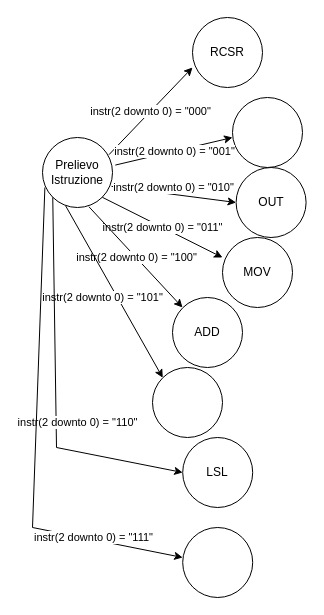
Image size: 324x615. Some labels were removed from this diagram. Here are the shapes that lost their labels. From the top down, the centre of each, then its label:
At (x=267, y=132): "IN".
At (x=187, y=402): "MUL".
At (x=217, y=562): "LSR".
